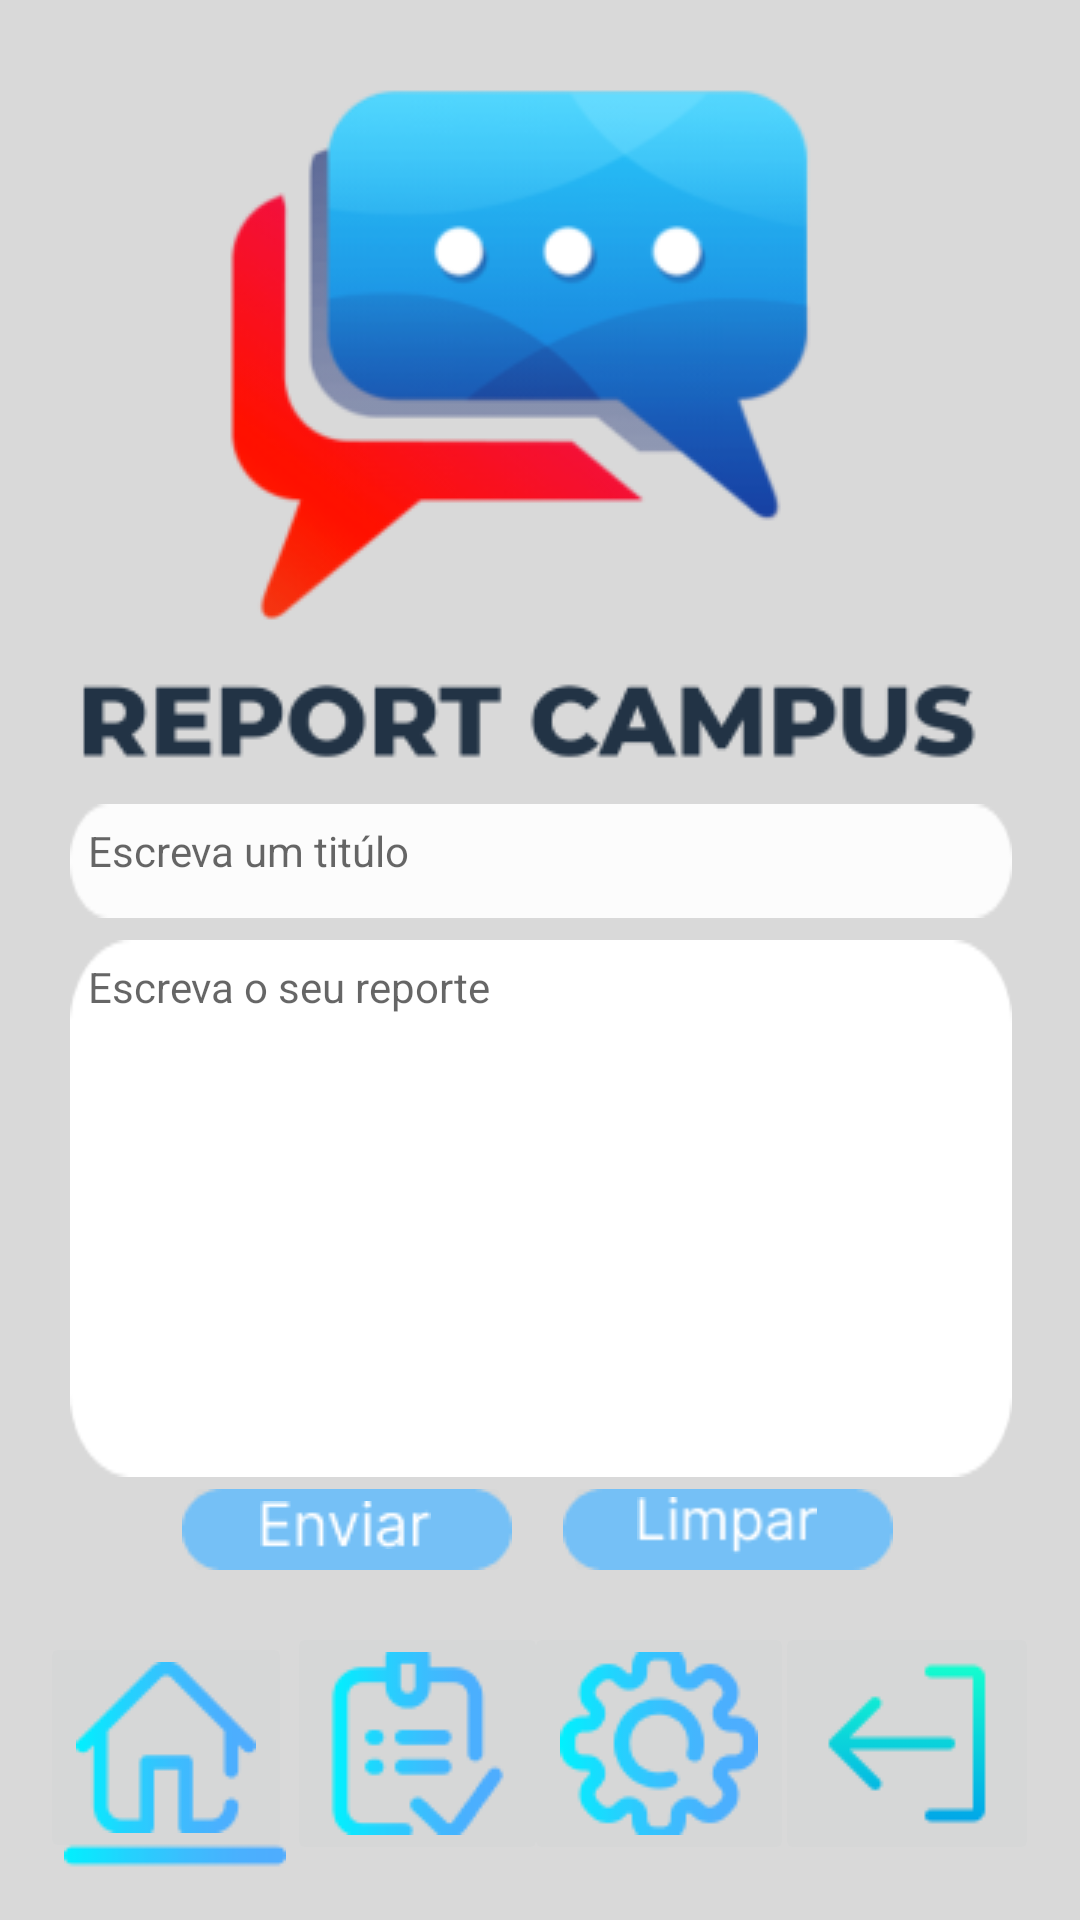

Icon click points for this 1080*1920 phone screenshot, format point (x, y):
iconeconfiguracao: point (659, 1743)
iconelist: point (417, 1743)
iconesair: point (907, 1743)
